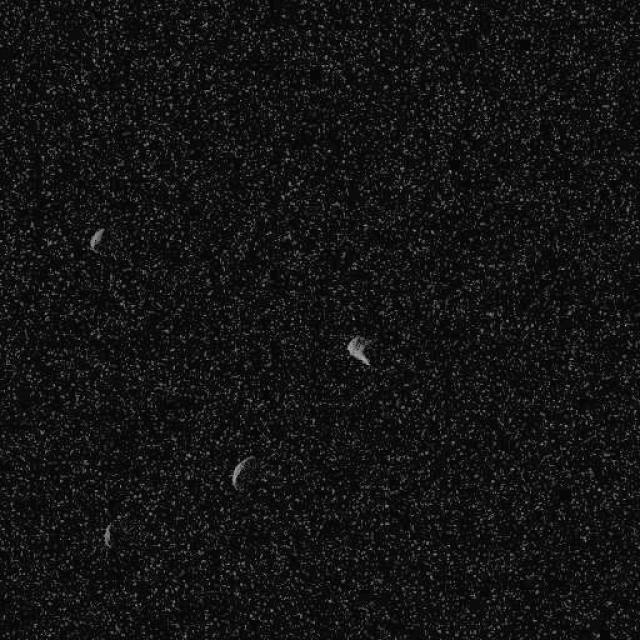D2: (0, 0, 639, 639), (230, 455, 259, 491), (345, 333, 371, 368), (87, 226, 105, 252), (101, 522, 112, 548)
